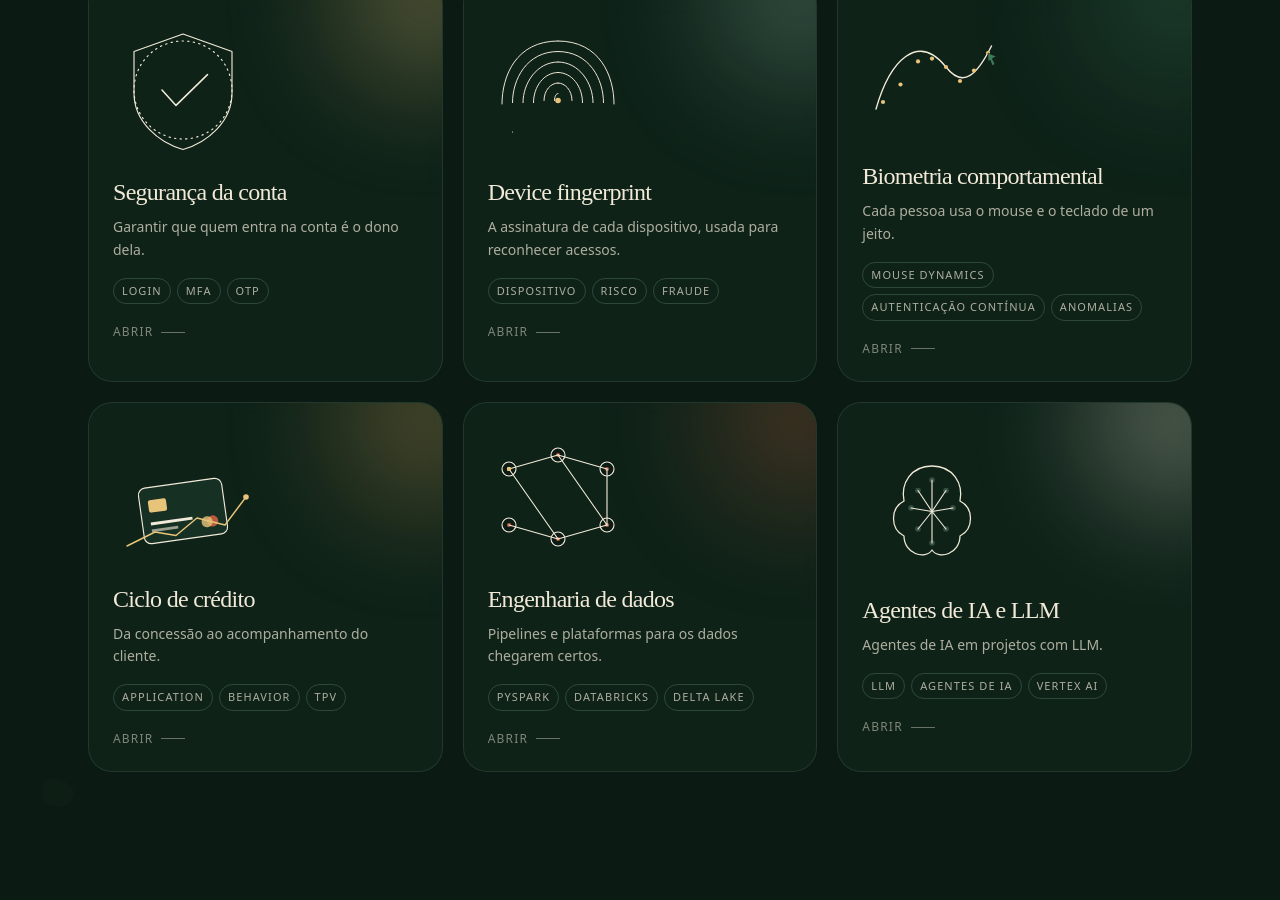
Test case: Expertise › abre a explicação de "Ciclo de crédito"
The width and height of the screenshot is (1280, 900).
(page scrolled)
Click the button "Ciclo de crédito" at (183, 496), box [88, 402, 443, 772]
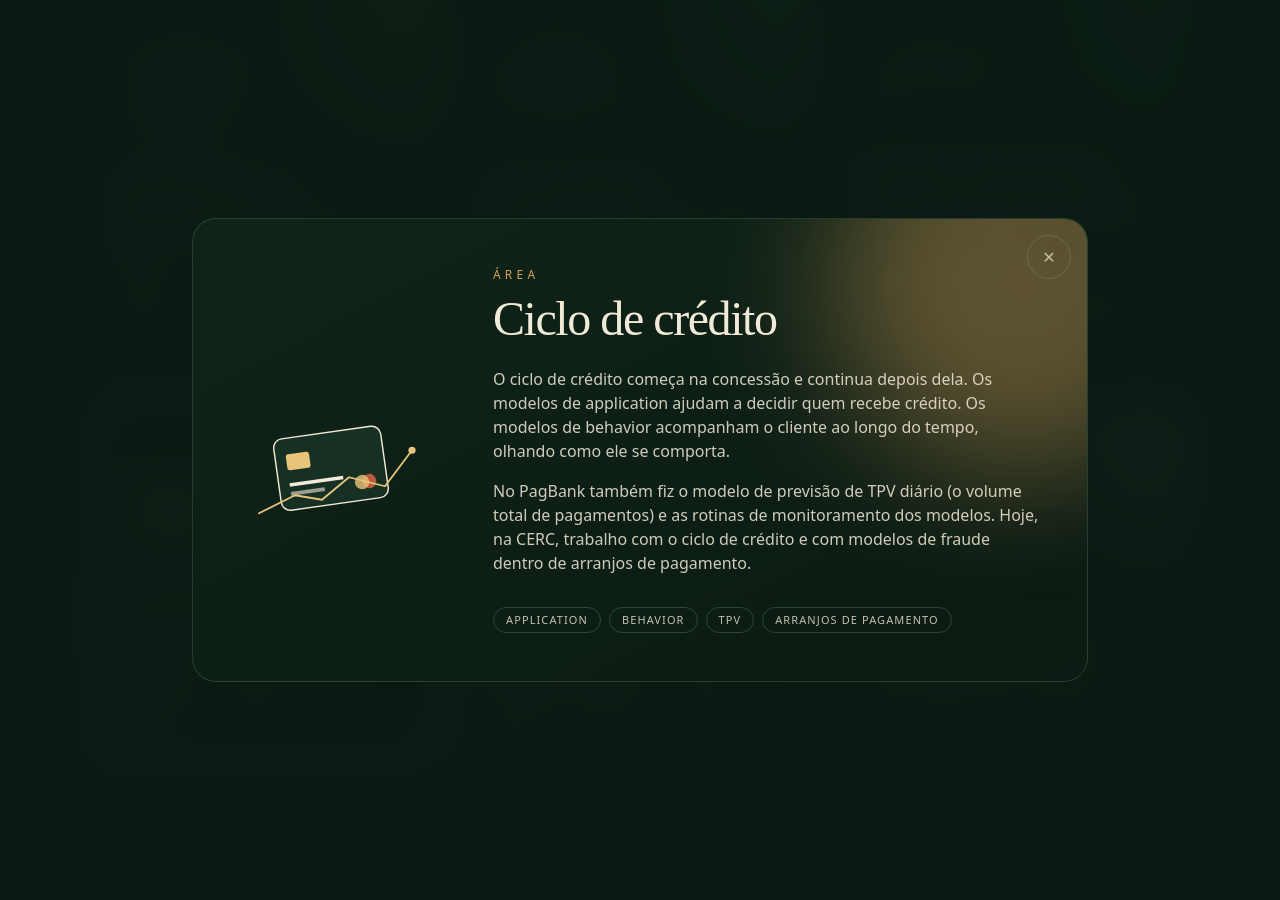
Expected: the text "O ciclo de crédito começa na concessão e continua depois dela. Os modelos de application ajudam a decidir quem recebe cr" is shown, [493, 368, 992, 462]
